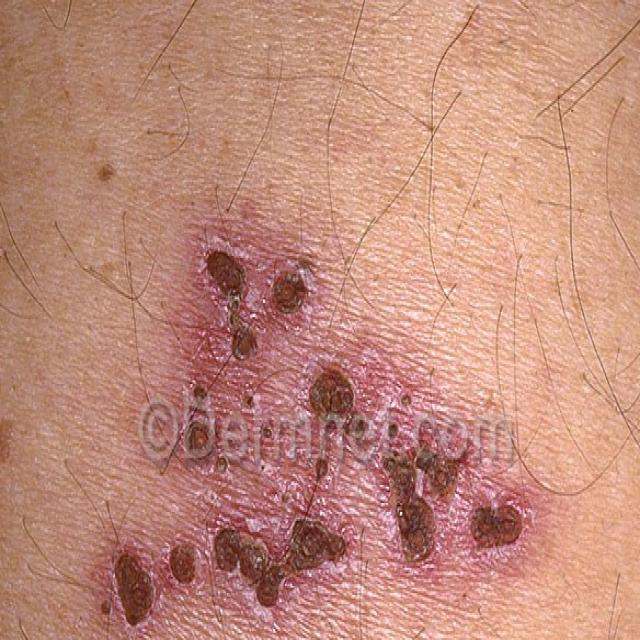Viral Infections: (103, 191, 546, 640)
